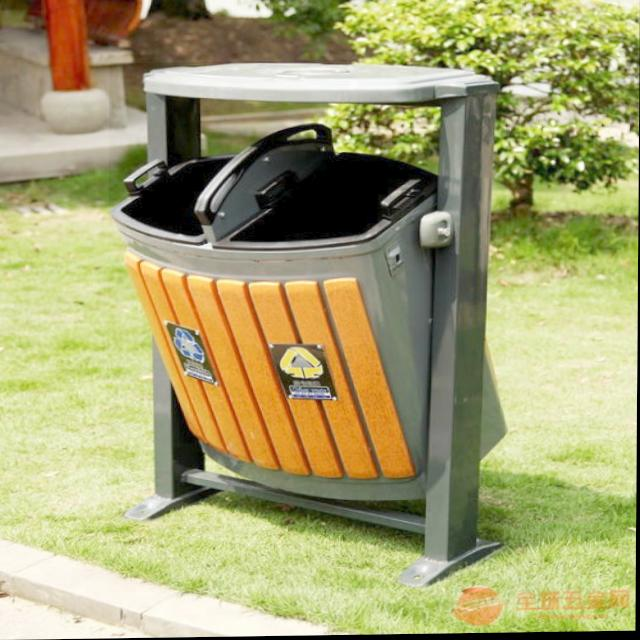garbage_bin: (107, 59, 508, 593)
